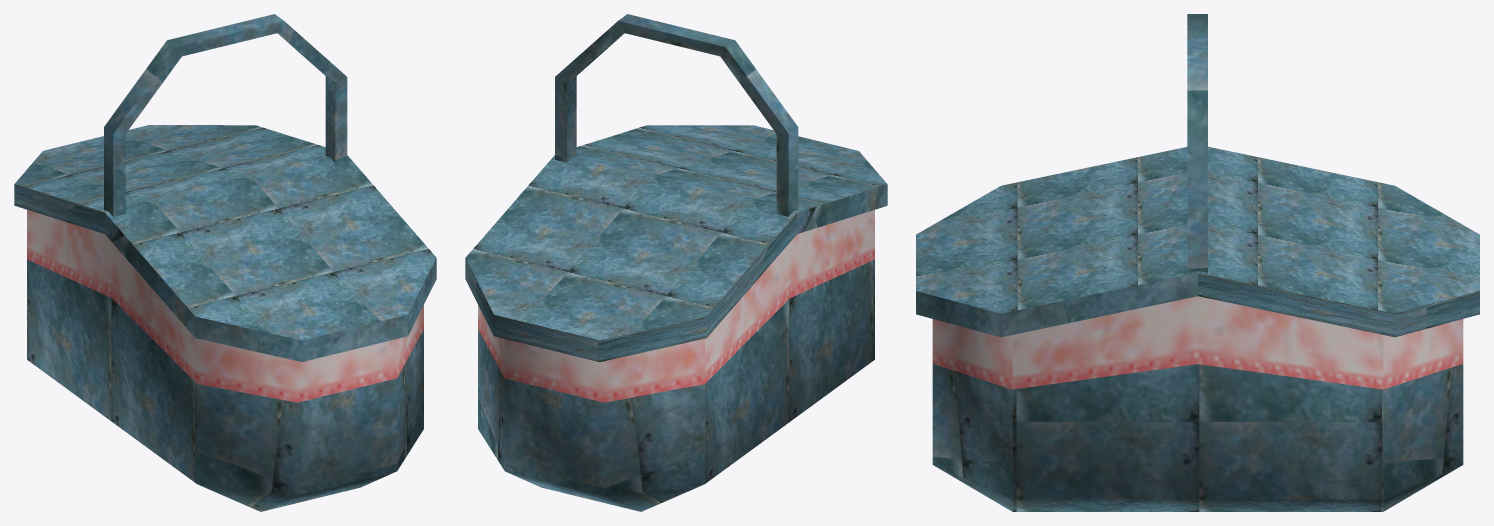
The model's file is basket.fbx.
3 renders of one model, left to right at view 1: azimuth 30°, elevation 25°; view 2: azimuth 150°, elevation 25°; view 3: azimuth 270°, elevation 25°, orthographic. The views are drawn at different scales.
Visible parts, largest first — view 1: Cube.005; view 2: Cube.005; view 3: Cube.005.
Part boxes in pixels (left/top/right/bottom): Cube.005: left=14, top=14, right=436, bottom=511; Cube.005: left=465, top=14, right=887, bottom=511; Cube.005: left=916, top=14, right=1479, bottom=511.
Bounding box in the file's own units: 0.5776 × 0.9311 × 1.07.
